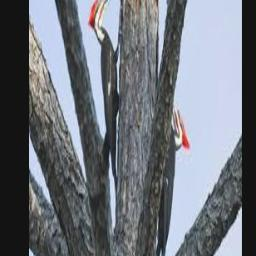Woodpecker: (89, 0, 122, 192), (156, 90, 190, 256)
